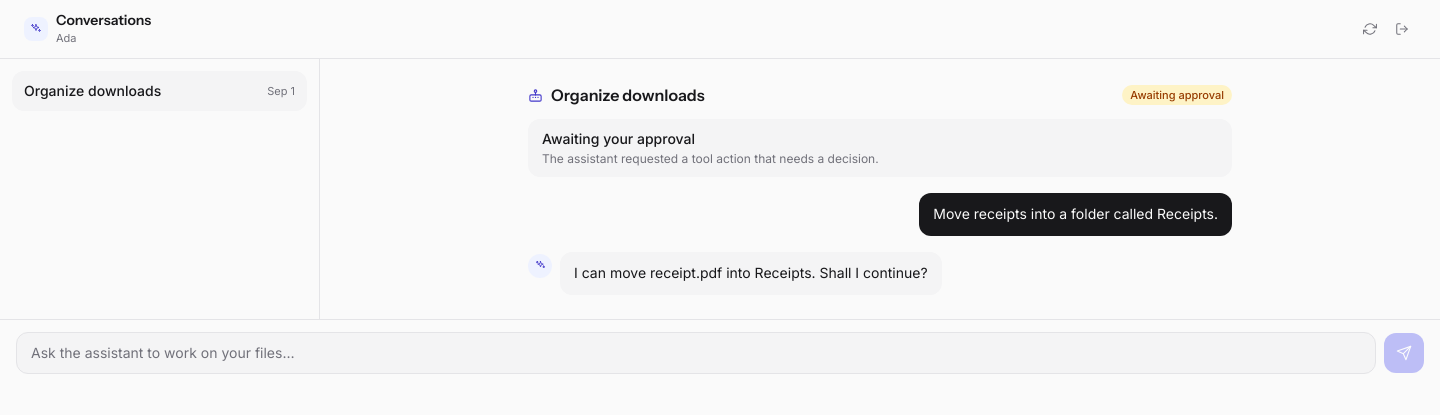
Test: AIHistoryView › surfaces submission errors, keeps the typed instruction, and reconciles the transcript
Expected: the text "Move receipts into a folder called Receipts." is shown, [933,203,1218,226]
Type "Move the scanned PDFs into a folder called Scanned." into the field named "Give the assistant an instruction" at (696, 352), box [16,332,1376,374]
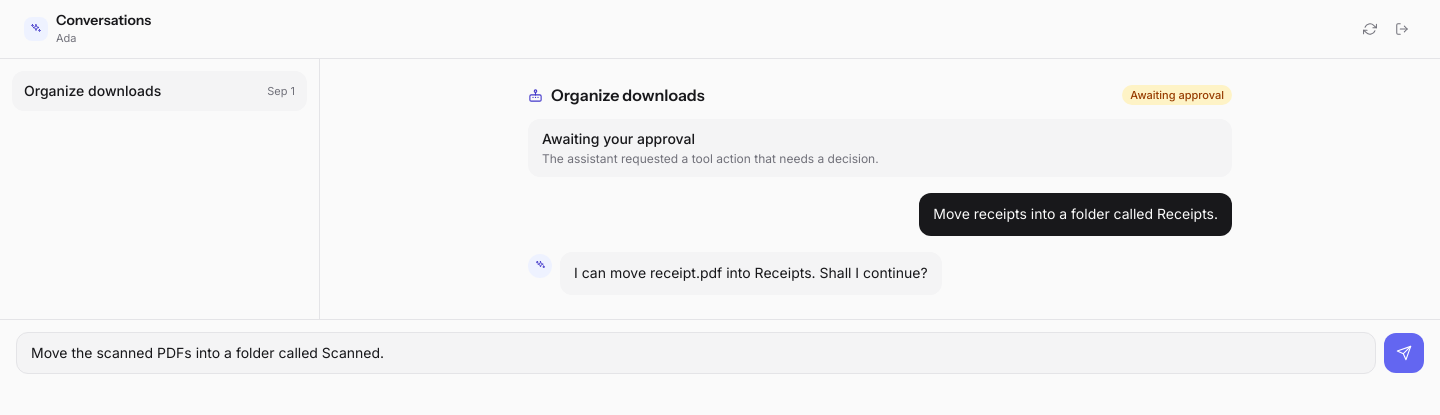
Click the button named "Send instruction" at (1404, 352), box [1384,332,1424,372]
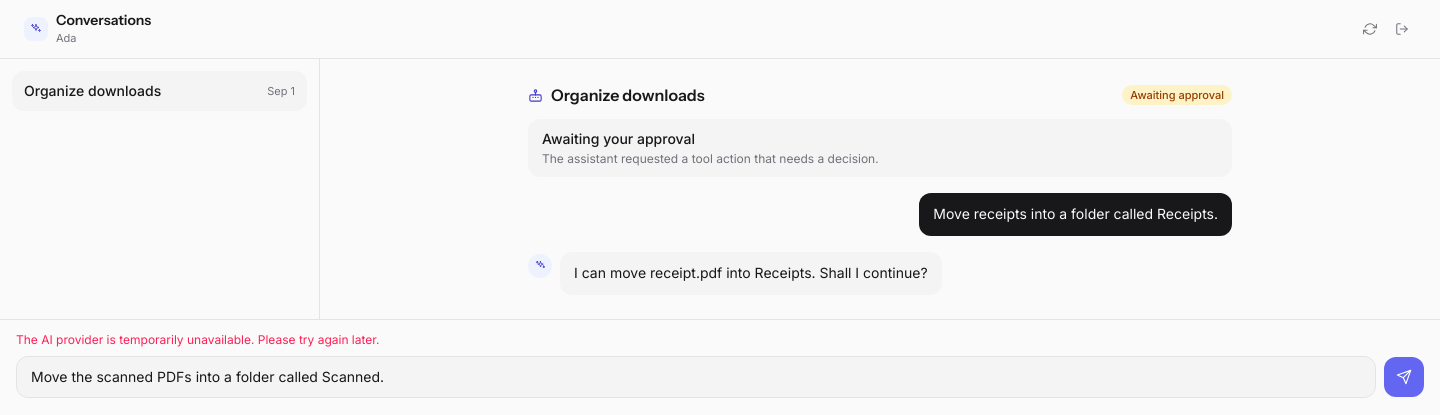
Expected: the text "The AI provider is temporarily unavailable. Please try again later." is shown, [16,332,380,346]
